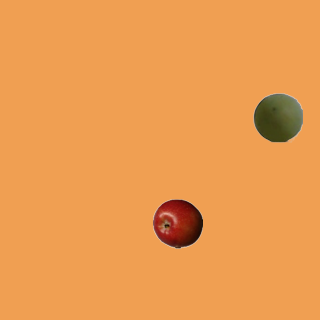Apple Braeburn: (152, 198, 202, 248)
Grape White 4: (252, 92, 302, 142)
